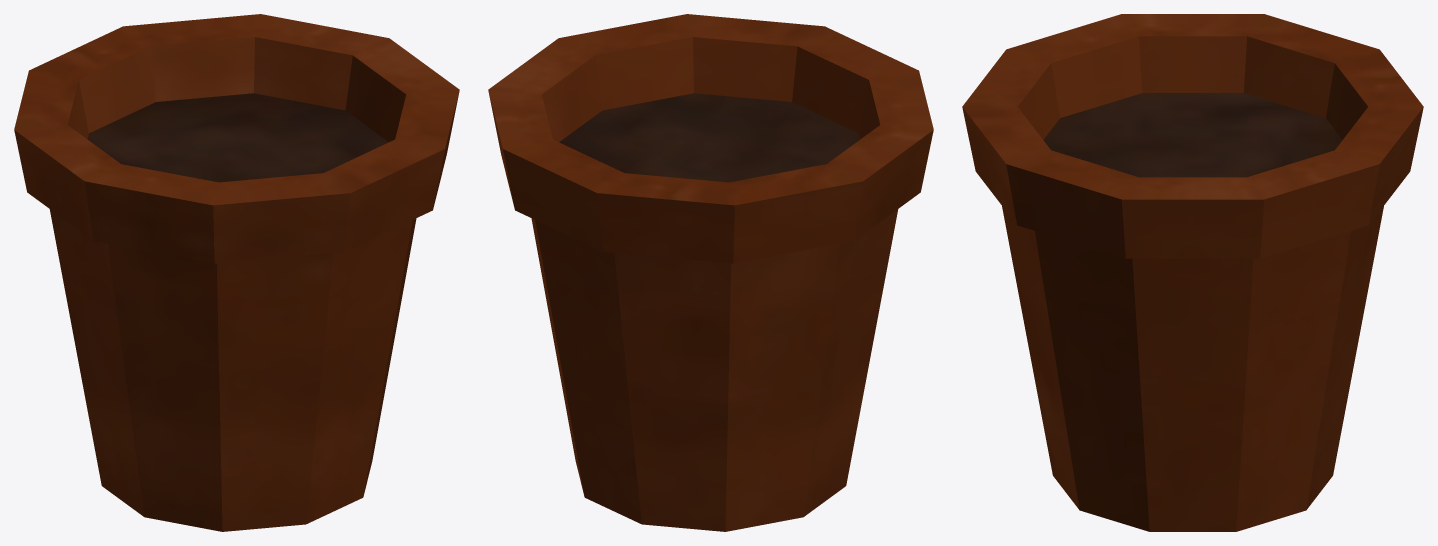
The model's file is PlantPot.fbx.
3 views of the same model, side by side, from view 1: azimuth 30°, elevation 25°; view 2: azimuth 150°, elevation 25°; view 3: azimuth 270°, elevation 25° (orthographic).
Parts seen in each view (by area): view 1: PlantPot; view 2: PlantPot; view 3: PlantPot.
Boxes of the visible parts, x1=… form: PlantPot: x1=14, y1=14, x2=459, y2=531; PlantPot: x1=488, y1=14, x2=933, y2=531; PlantPot: x1=962, y1=14, x2=1423, y2=531.
Bounding box in the file's own units: 32.85 × 30.46 × 34.54.
